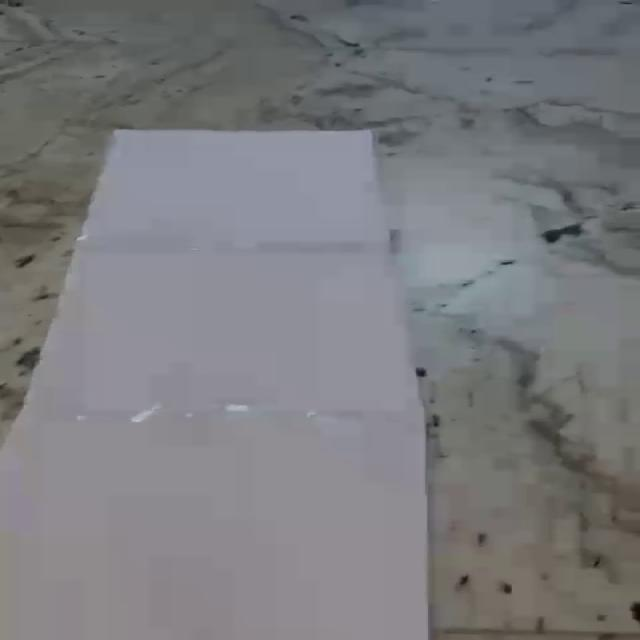road: (0, 129, 429, 640)
